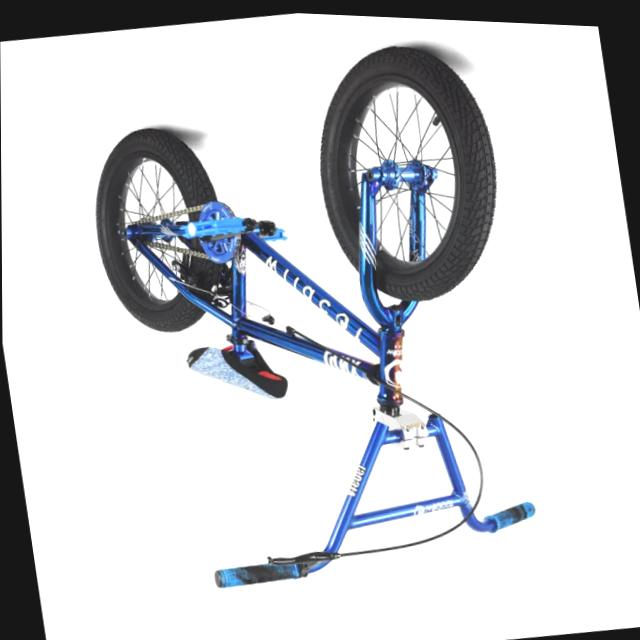bmx-bike: (68, 15, 558, 615)
